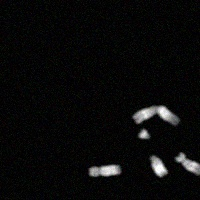chromosome: (133, 104, 180, 127), (175, 153, 200, 177), (88, 164, 121, 178), (148, 155, 167, 178), (137, 129, 151, 140)
